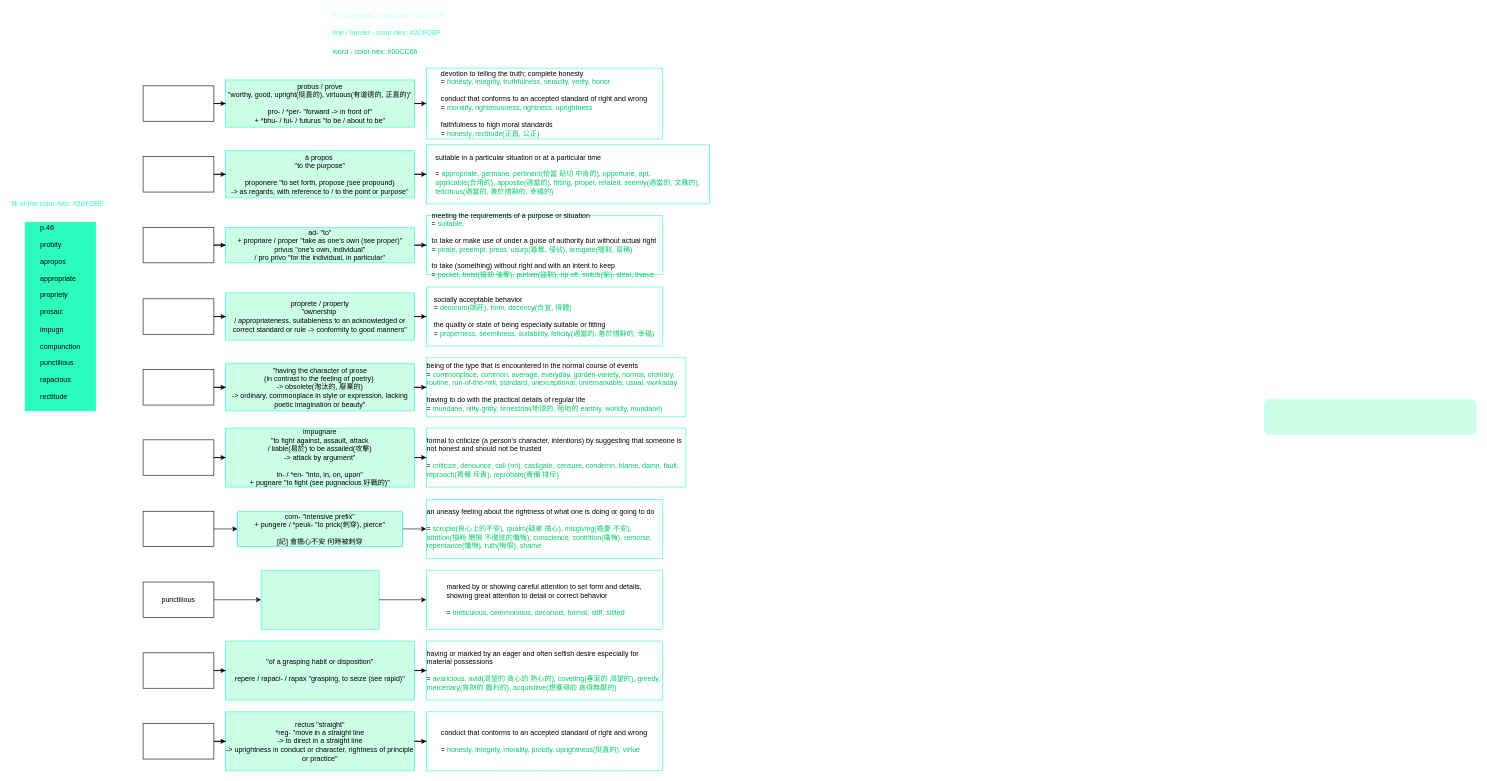
Image size: 1487x781. Some labels were removed from this diagram. Each missing label, with the centre of its shape:
appropriate: point 178,245
apropos: point 178,174
compunction: point 178,529
impugn: point 178,457
log transformation: point 1369,417
probity: point 178,103
propriety: point 178,316
prosaic: point 178,387
puntiglio / punto "a point" punctum / *peuk- "to prick(刺穿)": point 319,599
rapacious: point 178,670
rectitude: point 178,741
